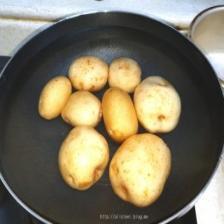Potato: (108, 130, 172, 206), (58, 123, 110, 191), (133, 74, 183, 134), (100, 84, 138, 143), (60, 89, 103, 130), (38, 74, 73, 122), (68, 56, 110, 92), (109, 56, 142, 93)
